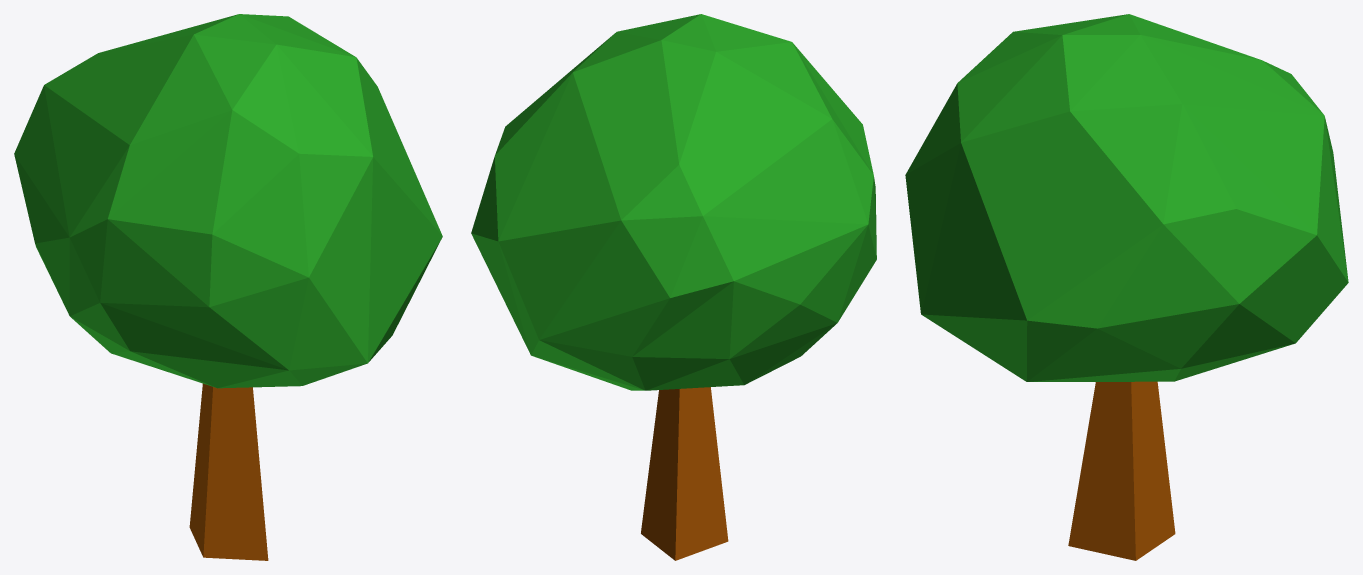
File: Tree3.fbx
3 views of the same model, side by side, from view 1: azimuth 30°, elevation 25°; view 2: azimuth 150°, elevation 25°; view 3: azimuth 270°, elevation 25° (orthographic). The views are drawn at different scales.
Parts seen in each view (by area): view 1: Tree3; view 2: Tree3; view 3: Tree3.
Boxes of the visible parts, box(x1,y1,x2,y2) form: Tree3: box(14, 14, 442, 560); Tree3: box(471, 14, 876, 560); Tree3: box(905, 14, 1348, 560).
Bounding box in the file's own units: 6.62 × 7.18 × 9.19.
